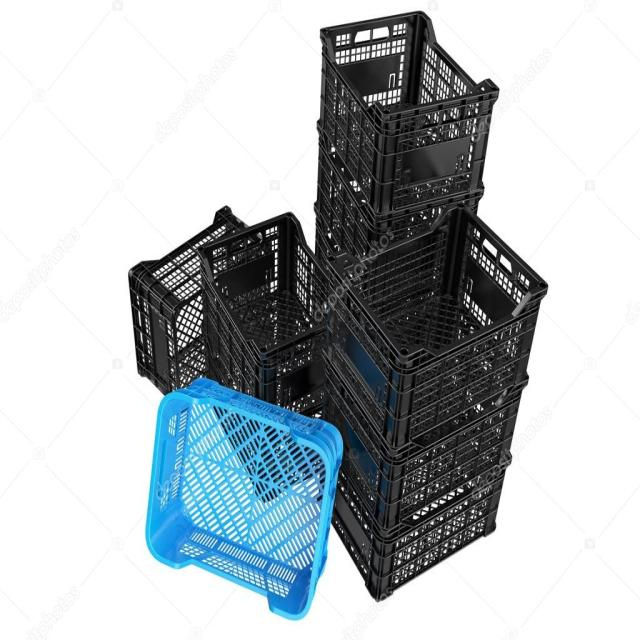basket: (310, 200, 552, 608), (106, 367, 372, 625), (306, 4, 505, 266), (115, 196, 343, 416), (101, 186, 248, 403), (276, 138, 460, 305)
